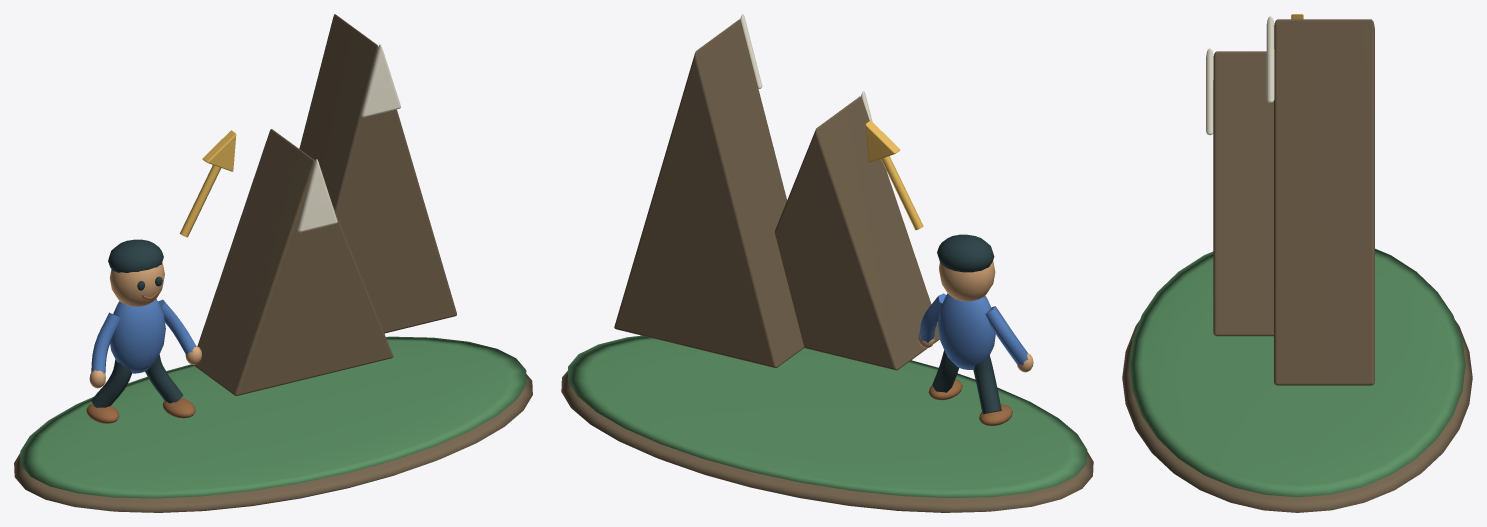
Rendered from climbing-mountain.glb.
3 views of the same model, side by side, from view 1: azimuth 30°, elevation 25°; view 2: azimuth 150°, elevation 25°; view 3: azimuth 270°, elevation 25° (orthographic). The views are drawn at different scales.
Visible parts, largest first — view 1: climbing-mountain_surface_00, climbing-mountain_surface_01, climbing-mountain_surface_05, climbing-mountain_surface_03, climbing-mountain_surface_06, climbing-mountain_surface_02, climbing-mountain_surface_07, climbing-mountain_surface_04; view 2: climbing-mountain_surface_00, climbing-mountain_surface_01, climbing-mountain_surface_05, climbing-mountain_surface_03, climbing-mountain_surface_02, climbing-mountain_surface_07, climbing-mountain_surface_04; view 3: climbing-mountain_surface_00, climbing-mountain_surface_01, climbing-mountain_surface_06.
Part boxes in pixels (box(x1,y1,x2,y2)): climbing-mountain_surface_00: box(14, 14, 532, 512); climbing-mountain_surface_01: box(20, 336, 526, 498); climbing-mountain_surface_05: box(91, 299, 196, 373); climbing-mountain_surface_03: box(91, 239, 183, 407); climbing-mountain_surface_06: box(297, 44, 400, 232); climbing-mountain_surface_02: box(89, 262, 201, 388); climbing-mountain_surface_07: box(180, 130, 236, 237); climbing-mountain_surface_04: box(86, 292, 195, 423); climbing-mountain_surface_00: box(561, 19, 1093, 512); climbing-mountain_surface_01: box(567, 335, 1087, 497); climbing-mountain_surface_05: box(919, 293, 1028, 369); climbing-mountain_surface_03: box(932, 234, 1001, 414); climbing-mountain_surface_02: box(918, 260, 1033, 372); climbing-mountain_surface_07: box(865, 120, 923, 230); climbing-mountain_surface_04: box(928, 379, 1012, 425); climbing-mountain_surface_00: box(1122, 19, 1472, 512); climbing-mountain_surface_01: box(1129, 248, 1465, 497); climbing-mountain_surface_06: box(1206, 16, 1274, 135).
Bounding box in the file's own units: 4.56 × 3.38 × 2.5.
